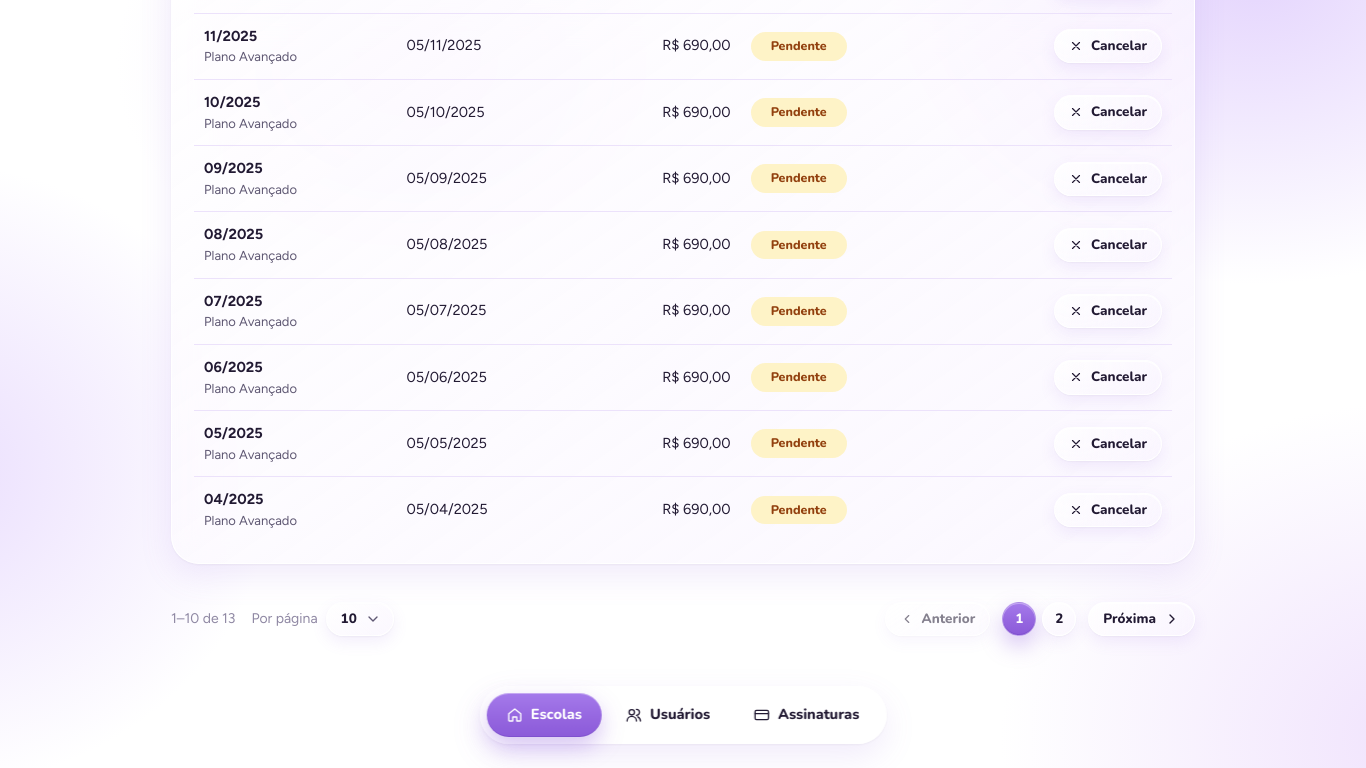
Test: Faturas da escola › pede ao backend só a página que mostra, da competência mais recente
(page scrolled)
Expected: the text "03/2025" is not shown
Click the button "Próxima": (1142, 619) [1088, 602, 1195, 636]
(page scrolled)
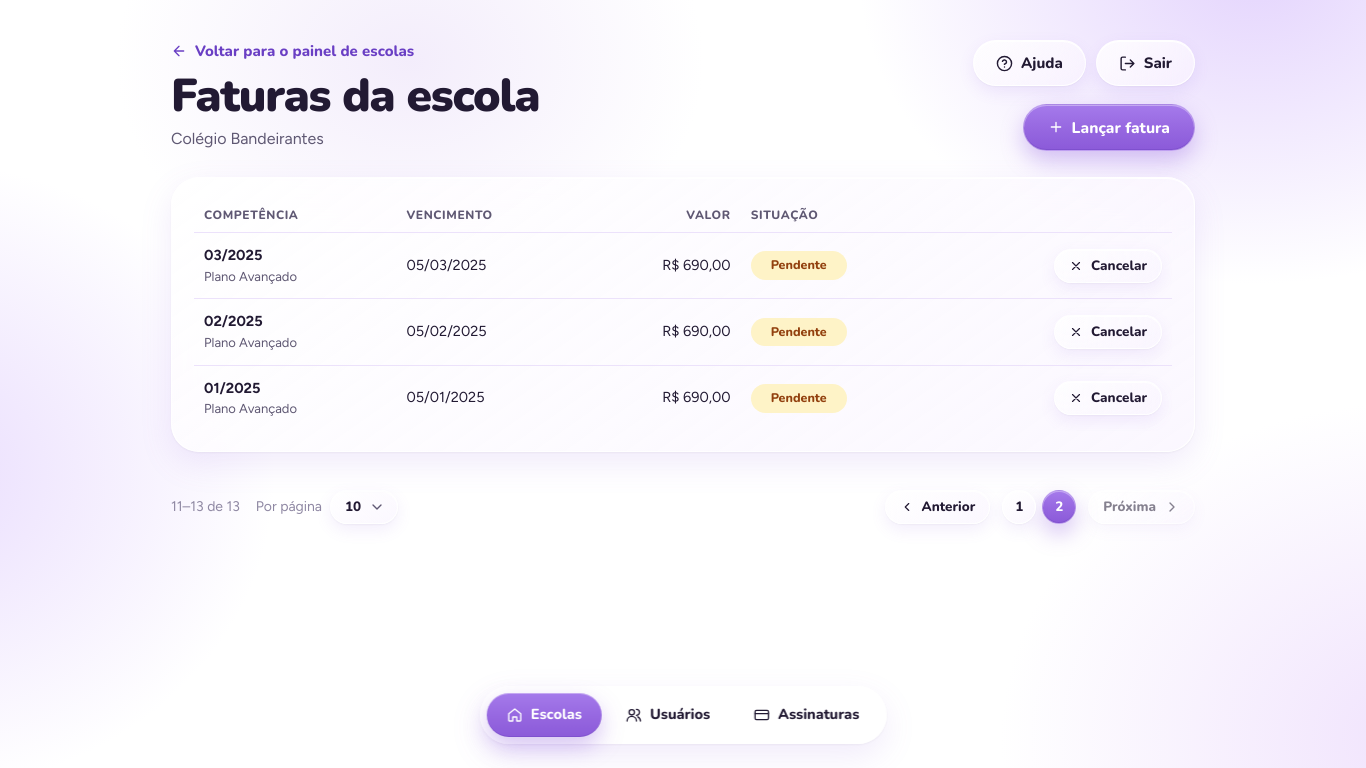
Expected: the text "01/2025" is shown, [204, 379, 260, 397]
Expected: the text "11–13 de 13" is shown, [171, 496, 240, 518]
